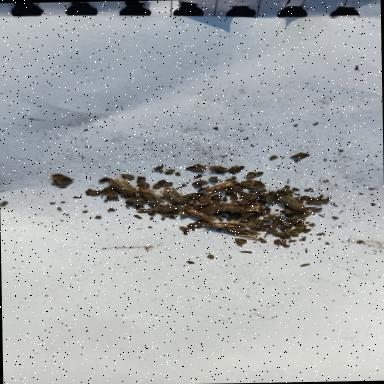pbw: (104, 175, 138, 198), (183, 206, 220, 222), (221, 226, 261, 240), (202, 180, 240, 194), (278, 195, 308, 212), (138, 187, 164, 206), (163, 186, 185, 204), (200, 221, 246, 229)
